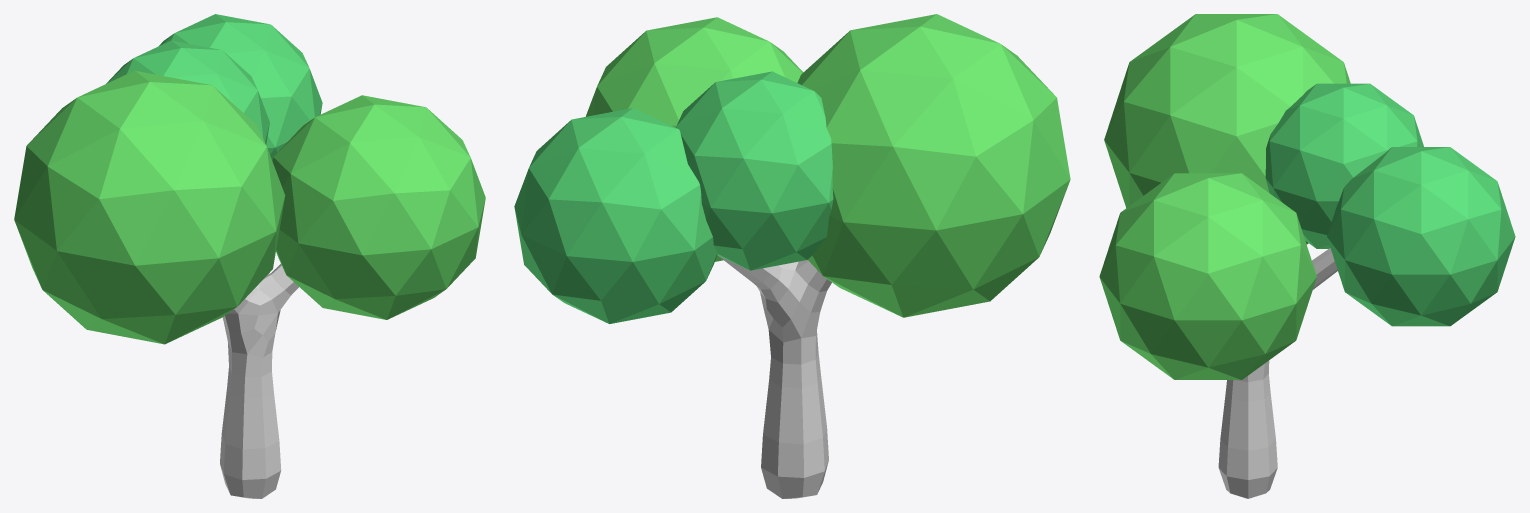
The model's file is tree3.fbx.
The picture shows the model from 3 angles, left to right: view 1: azimuth 30°, elevation 25°; view 2: azimuth 150°, elevation 25°; view 3: azimuth 270°, elevation 25°; orthographic projection. The views are drawn at different scales.
Parts seen in each view (by area): view 1: Icosphere.001; view 2: Icosphere.001; view 3: Icosphere.001.
Boxes of the visible parts, box(x1,y1,x2,y2) form: Icosphere.001: box(14, 14, 485, 498); Icosphere.001: box(514, 14, 1070, 498); Icosphere.001: box(1099, 14, 1515, 498).
Bounding box in the file's own units: 246 × 252 × 222.
